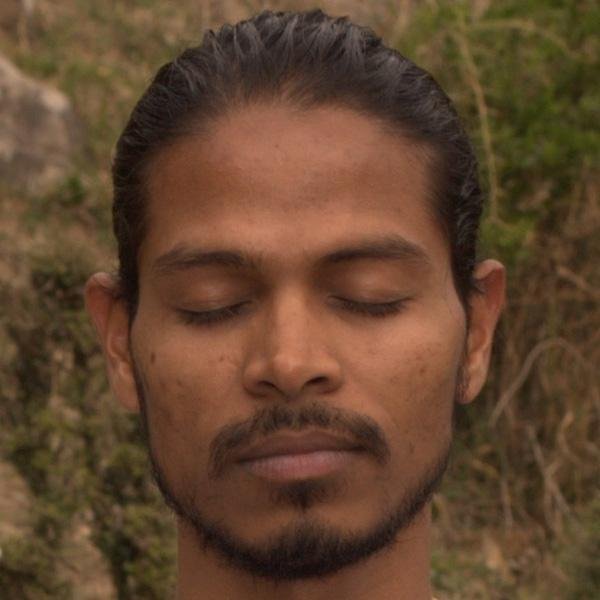Eyes: (324, 270, 424, 323), (165, 275, 257, 332)
